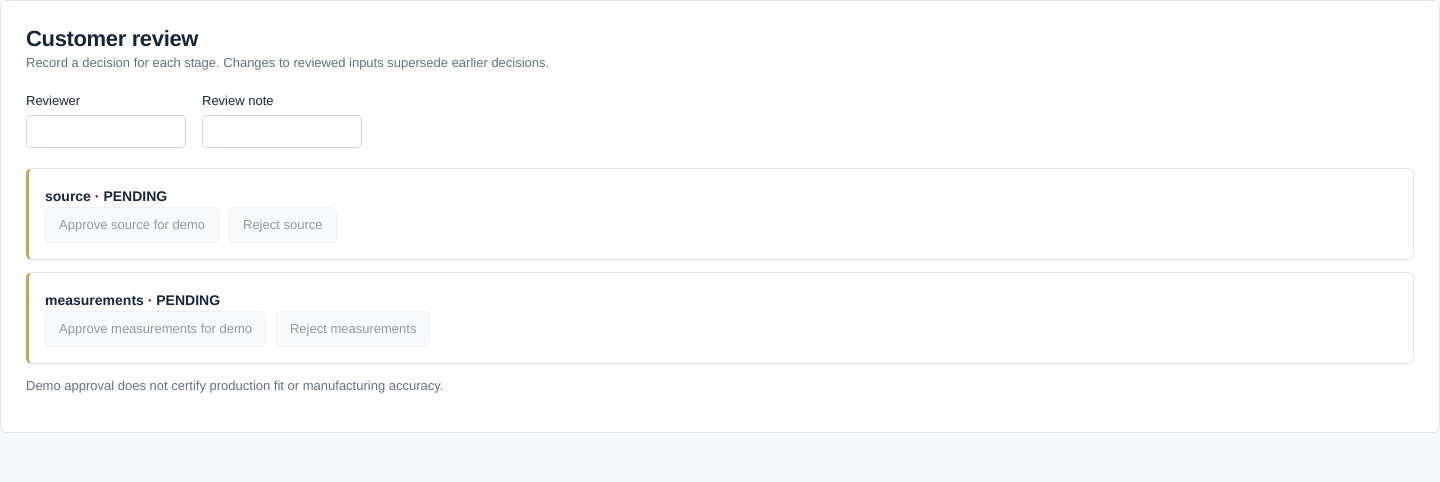
requires a reviewer and previous approvals, and preserves retry after rejection
The image size is (1440, 482).
Expected: the button "Approve source for demo" is disabled, [45,206,219,242]
Type "Reviewer" into the field labelled "Reviewer" at (106, 131), box [26,114,186,148]
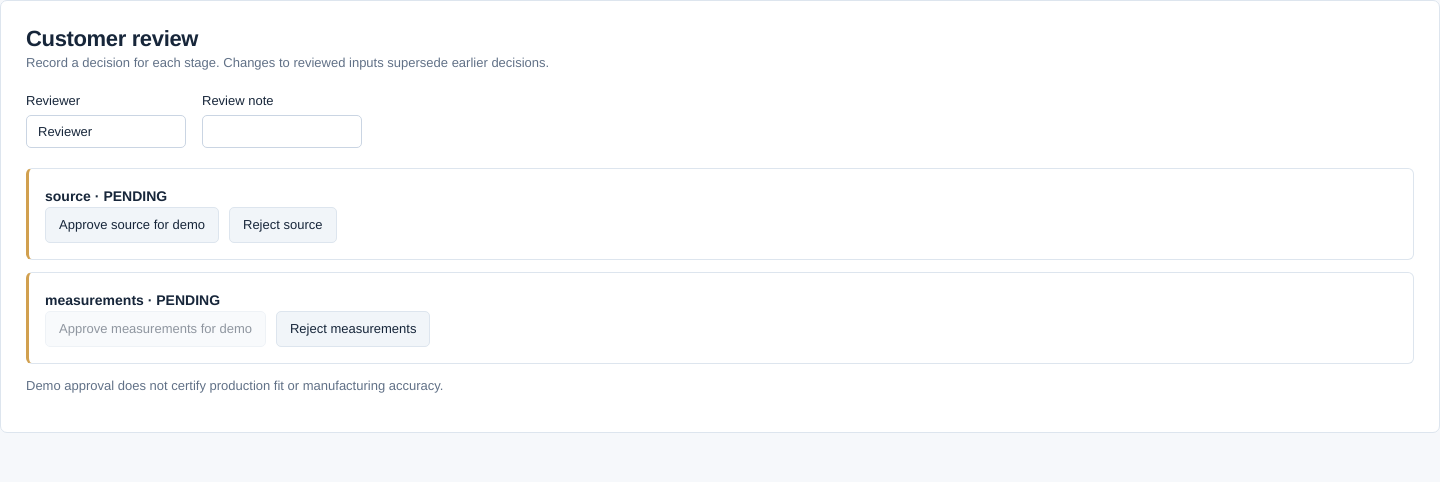
Expected: the button "Approve measurements for demo" is disabled, [45,310,266,346]
Click the button "Approve source for demo" at (132, 224), box [45,206,219,242]
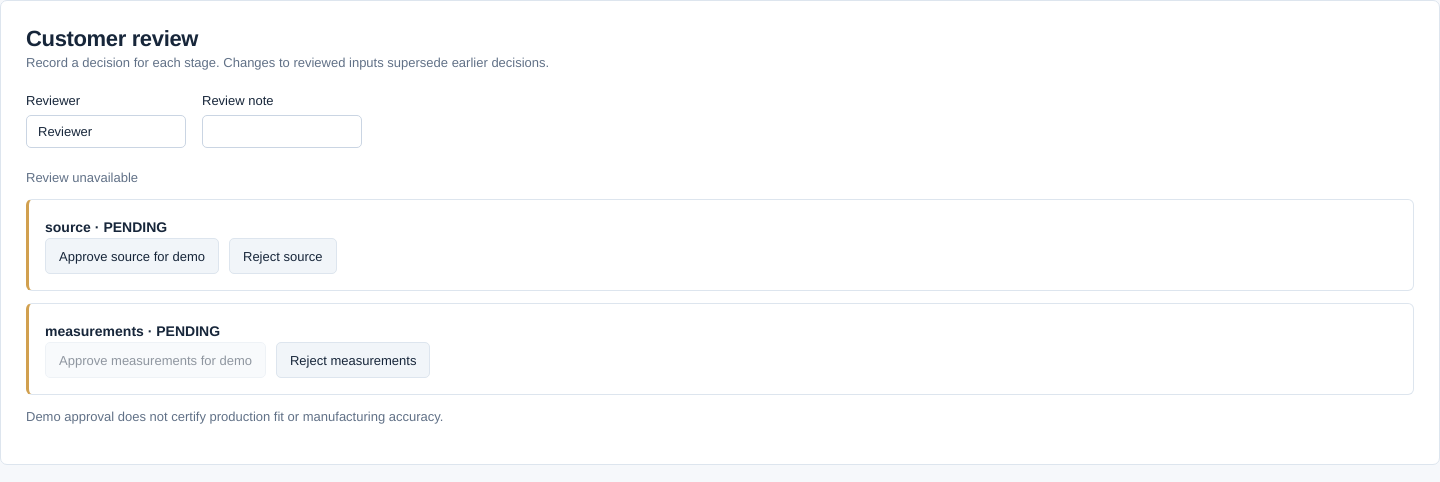
Expected: the message reads "Review unavailable", [26,170,138,184]
Click the button "Approve source for demo" at (132, 256), box [45,238,219,274]
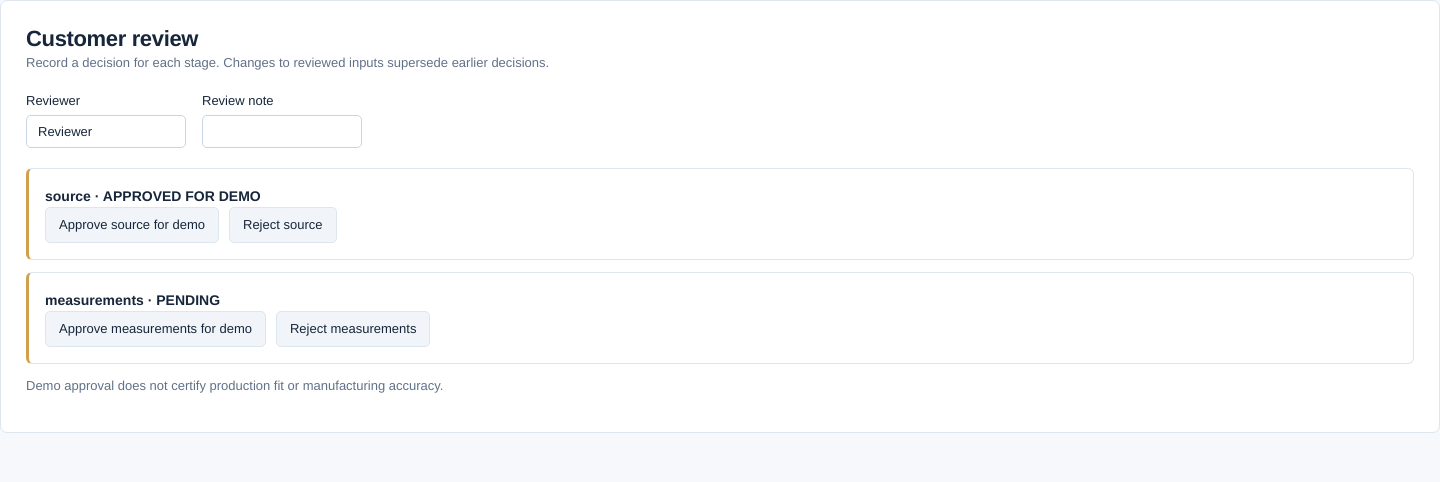
Expected: the button "Approve measurements for demo" is enabled, [45,310,266,346]
